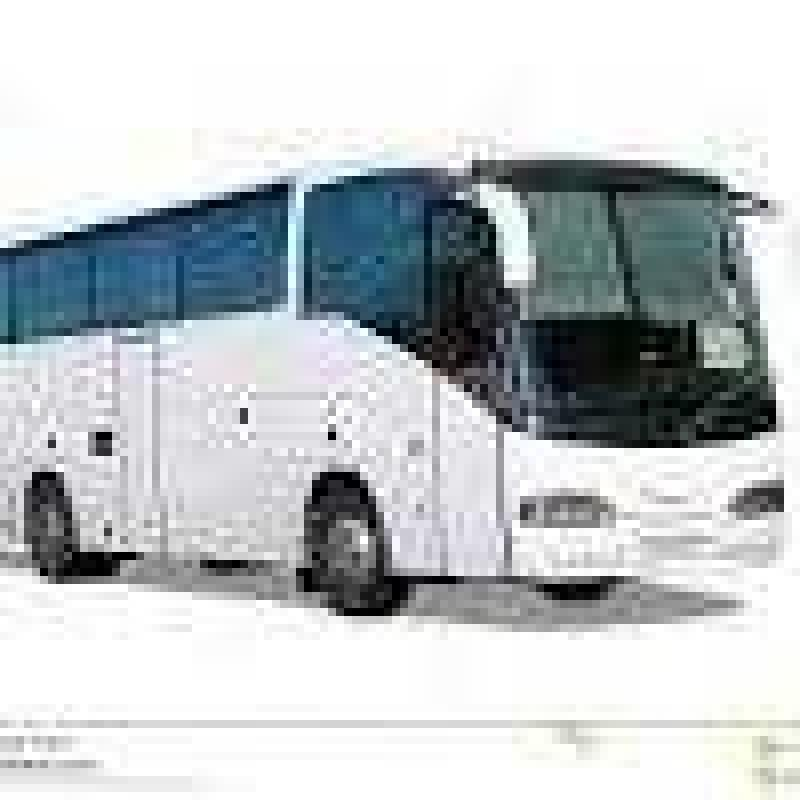bus: (38, 104, 800, 674)
